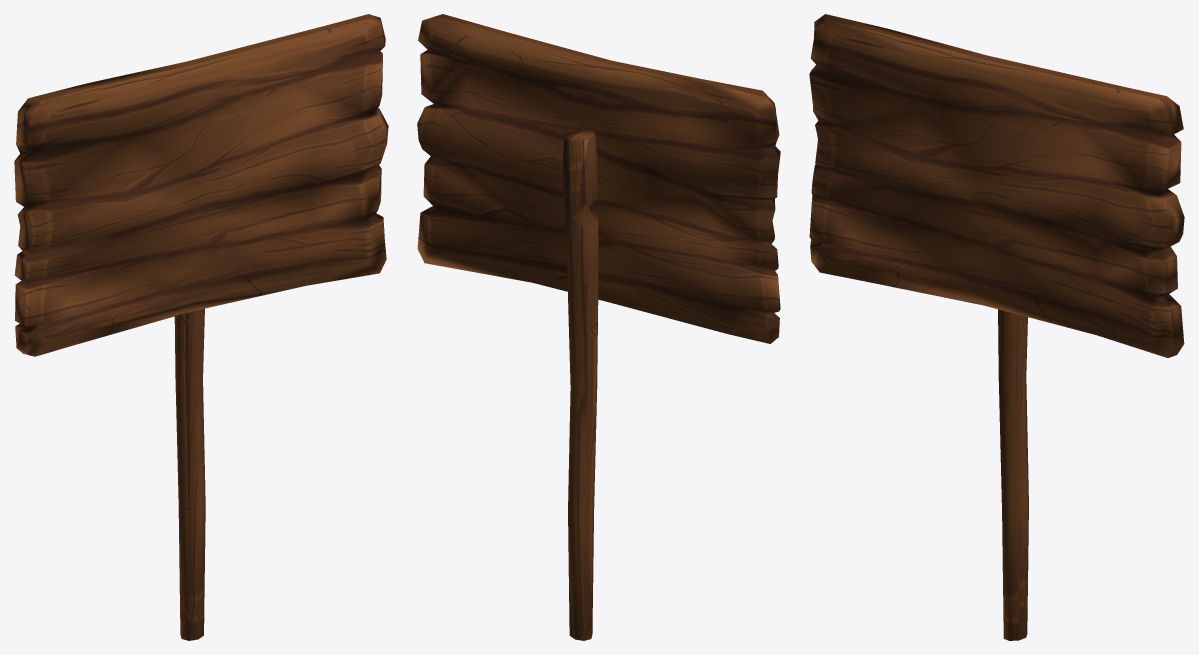
File: Wood_Sign.fbx
The picture shows the model from 3 angles, left to right: view 1: azimuth 30°, elevation 25°; view 2: azimuth 150°, elevation 25°; view 3: azimuth 330°, elevation 25°; orthographic projection. The views are drawn at different scales.
Visible parts, largest first — view 1: Sign_Wood_Geo; view 2: Sign_Wood_Geo; view 3: Sign_Wood_Geo.
Part boxes in pixels (<box>): Sign_Wood_Geo: <box>14,14,388,640</box>; Sign_Wood_Geo: <box>417,14,780,640</box>; Sign_Wood_Geo: <box>809,14,1184,640</box>.
Size of the model in its own units: 24.34 by 36.79 by 3.42.
